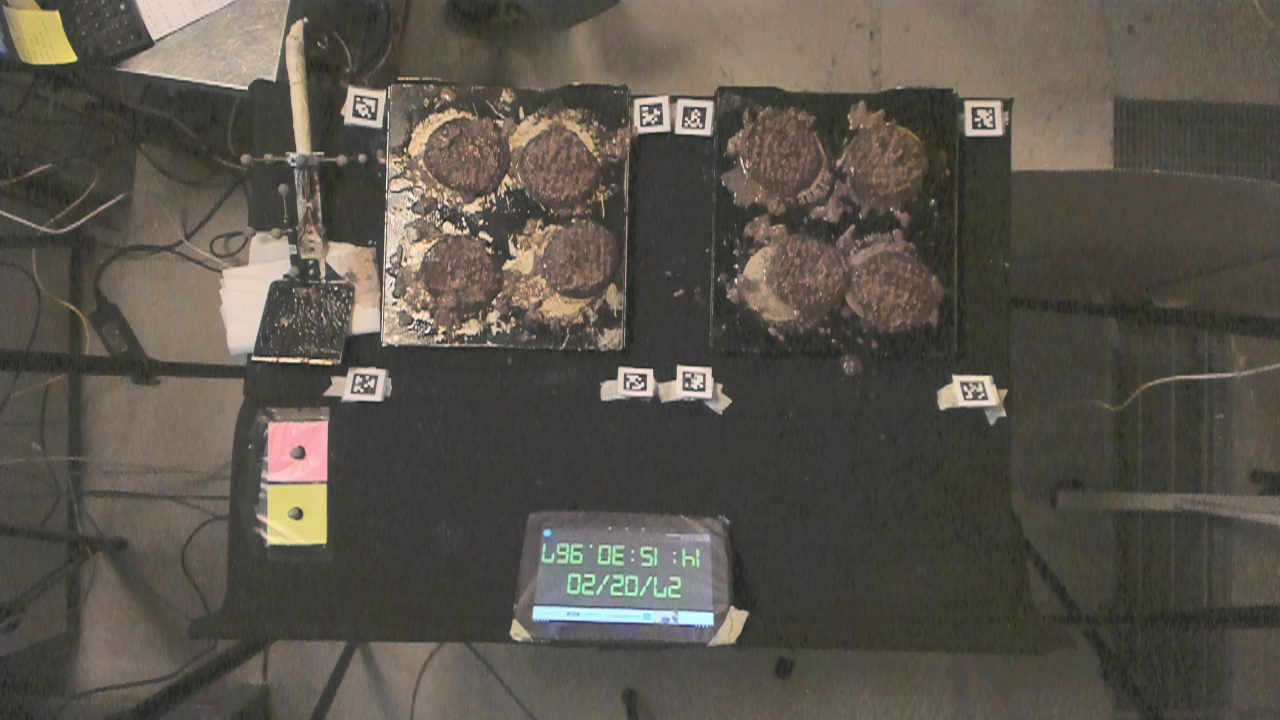hamburger: (740, 108, 827, 197), (846, 116, 924, 207), (772, 232, 847, 324), (421, 117, 507, 197), (857, 253, 937, 338), (419, 234, 500, 313), (541, 219, 619, 298), (515, 128, 589, 202)
marker: (267, 422, 329, 482)
